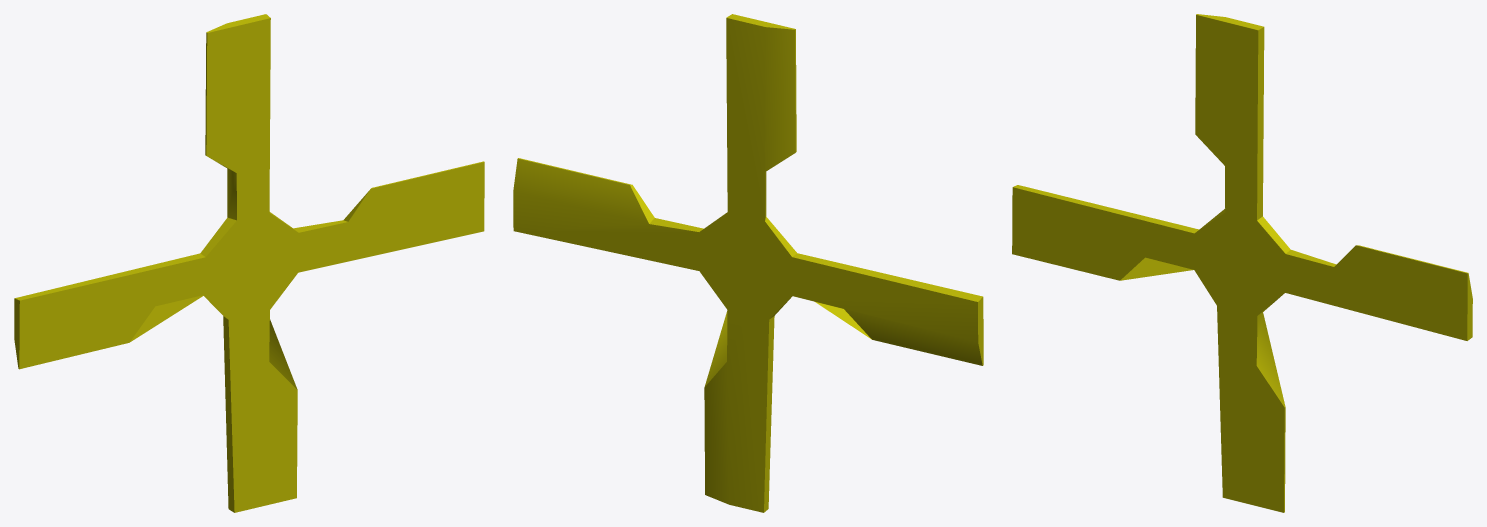
The model's file is windmill_blade.fbx.
3 views of the same model, side by side, from view 1: azimuth 30°, elevation 25°; view 2: azimuth 150°, elevation 25°; view 3: azimuth 330°, elevation 25° (orthographic). The views are drawn at different scales.
Parts seen in each view (by area): view 1: windmillblade1; view 2: windmillblade1; view 3: windmillblade1.
Boxes of the visible parts, left/top/right/bottom form: windmillblade1: left=14, top=14, right=484, bottom=512; windmillblade1: left=513, top=14, right=983, bottom=512; windmillblade1: left=1012, top=14, right=1472, bottom=512.
Bounding box in the file's own units: 10.01 × 10.01 × 0.2.
